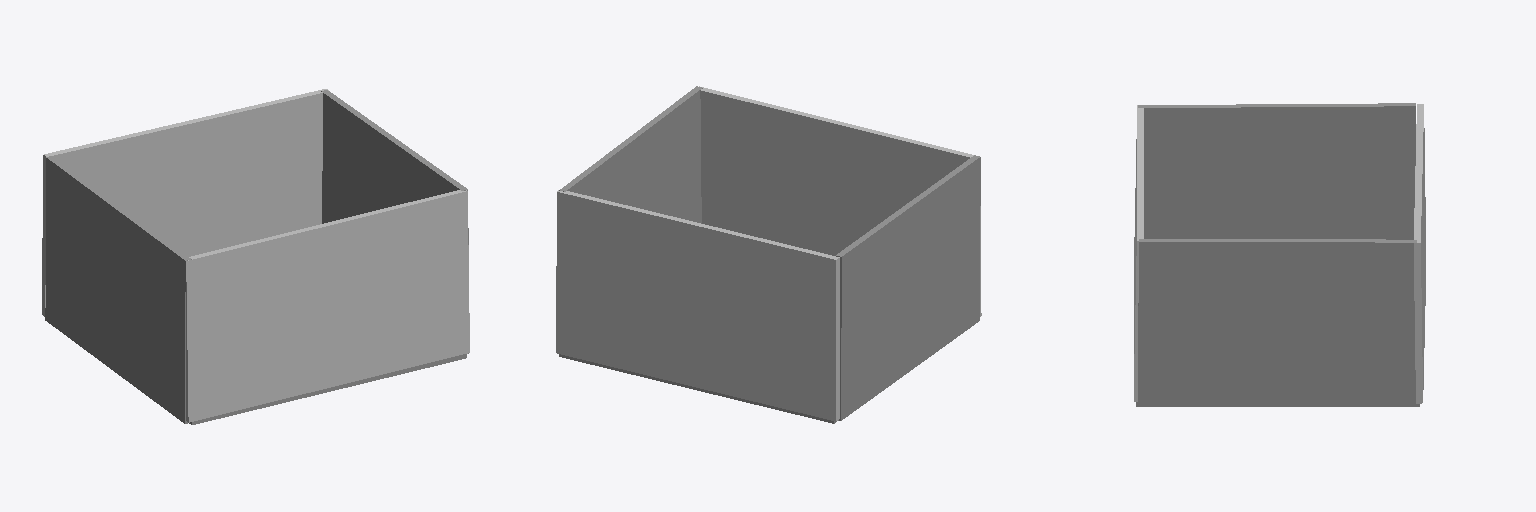
The model's file is EmptyRoom.obj.
3 views of the same model, side by side, from view 1: azimuth 30°, elevation 25°; view 2: azimuth 150°, elevation 25°; view 3: azimuth 270°, elevation 25° (orthographic).
Visible parts, largest first — view 1: Cube.001_Cube.009, Cube.002, Cube.003, Cube.004_Cube.010, Cube.001; view 2: Cube.002, Cube.001_Cube.009, Cube.003, Cube.004_Cube.010, Cube.001; view 3: Cube.004_Cube.010, Cube.003, Cube.002, Cube.001_Cube.009.
Boxes of the visible parts, x1,y1,x2,y2 form: Cube.001_Cube.009: [186, 190, 469, 422]; Cube.002: [42, 89, 328, 316]; Cube.003: [45, 156, 191, 423]; Cube.004_Cube.010: [321, 90, 468, 353]; Cube.001: [189, 354, 466, 424]; Cube.002: [556, 190, 839, 421]; Cube.001_Cube.009: [699, 86, 981, 316]; Cube.003: [836, 155, 980, 420]; Cube.004_Cube.010: [559, 86, 702, 223]; Cube.001: [559, 354, 838, 423]; Cube.004_Cube.010: [1138, 239, 1416, 405]; Cube.003: [1138, 103, 1415, 239]; Cube.002: [1414, 104, 1425, 403]; Cube.001_Cube.009: [1134, 105, 1143, 401].
Bounding box in the file's own units: 4.44 × 2.5 × 3.97.